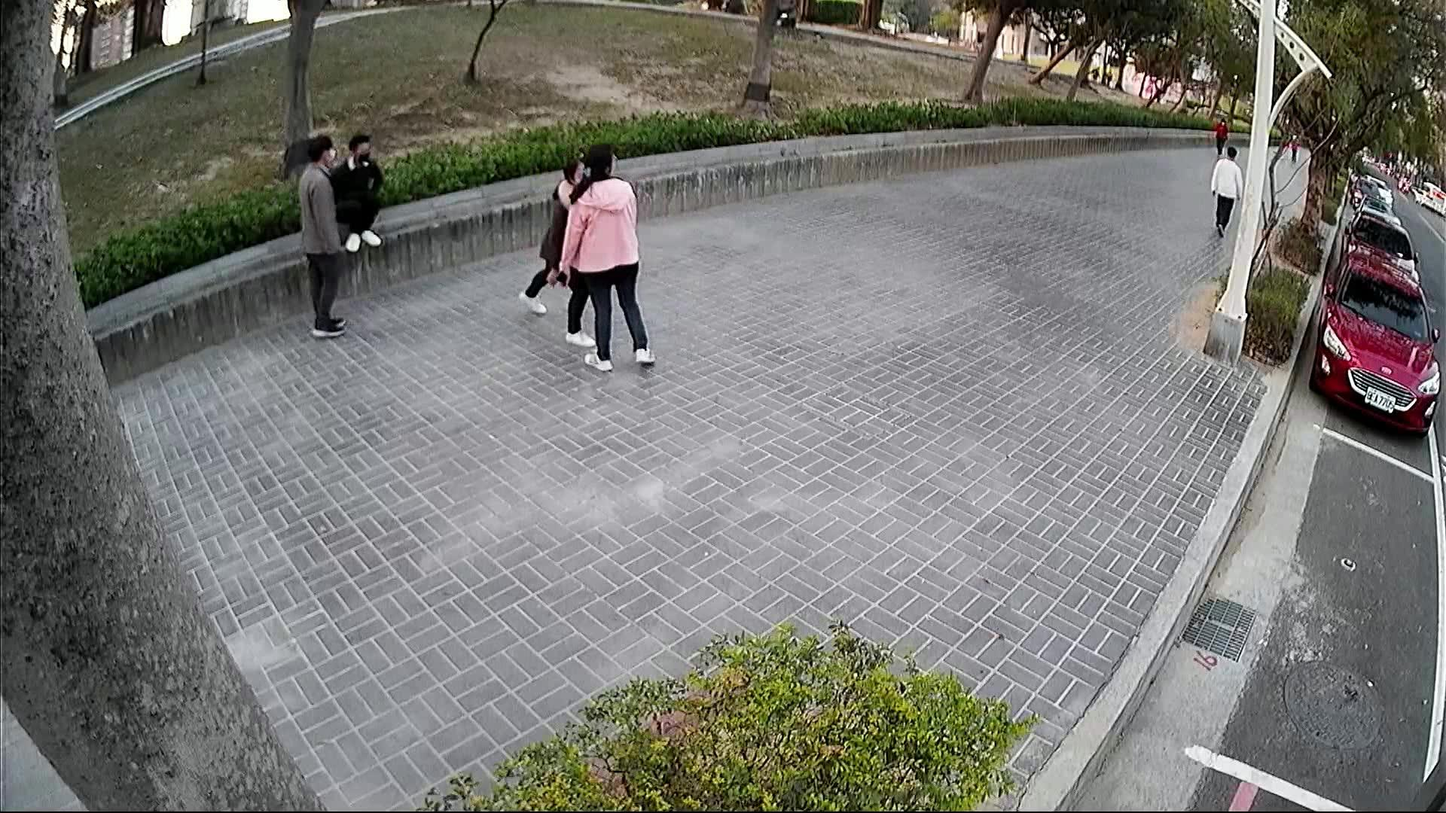person: (541, 139, 660, 375), (510, 150, 599, 351), (295, 129, 351, 339), (327, 126, 389, 254), (1205, 143, 1241, 240), (1207, 111, 1230, 155)
